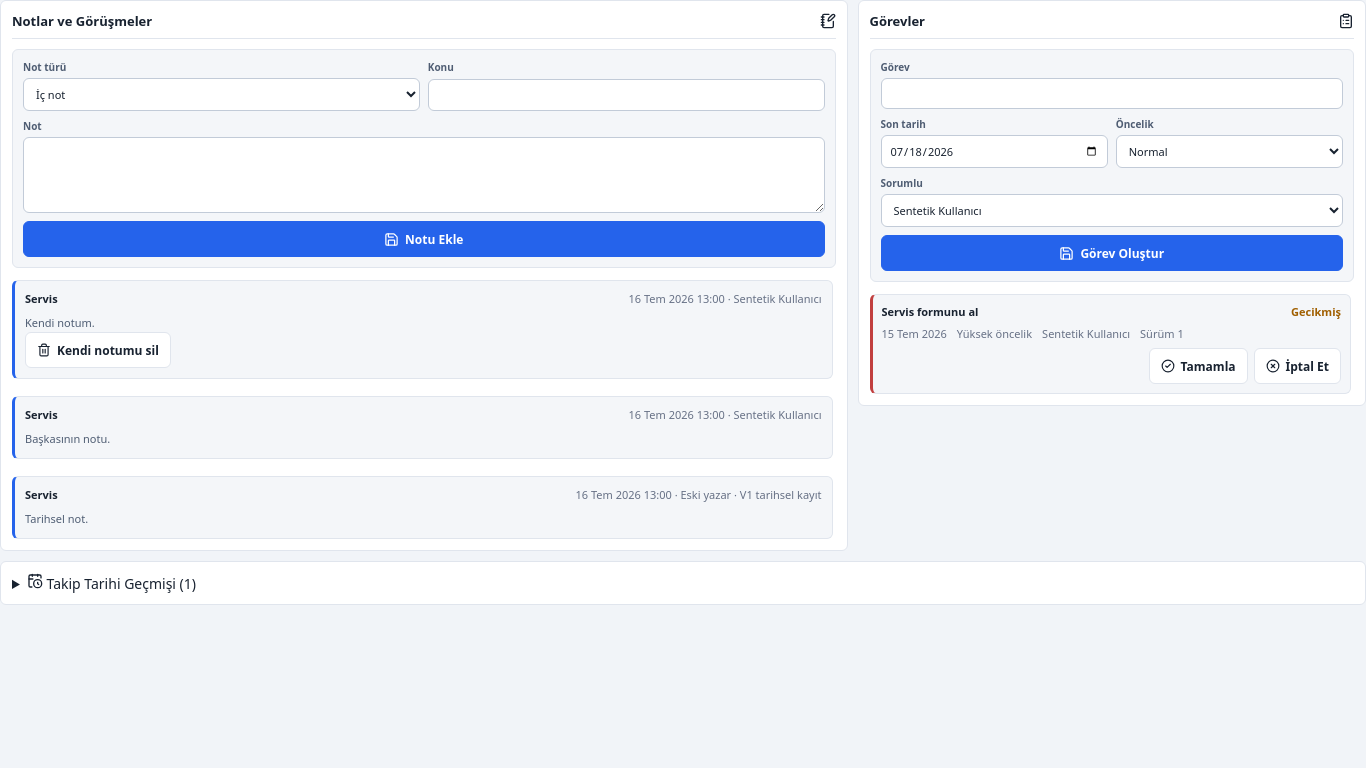
Test: Case Operations gerçek API modülü › yalnız oturum sahibinin kendi notunu onaydan sonra siler ve gerçek listeyi yeniler
The image size is (1366, 768).
Click the button "Kendi notumu sil": (98, 350) [25,332,171,368]
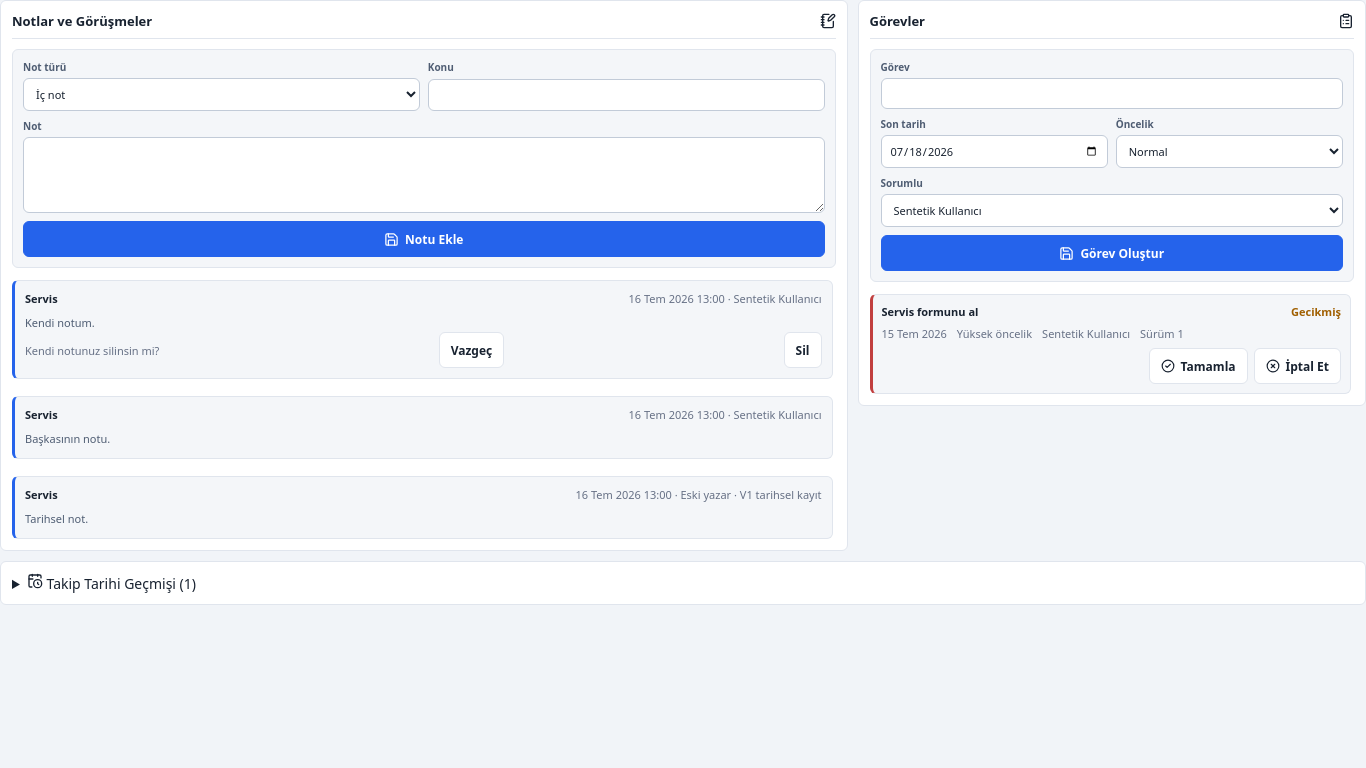
Click the button "Vazgeç": (471, 350) [439,332,504,368]
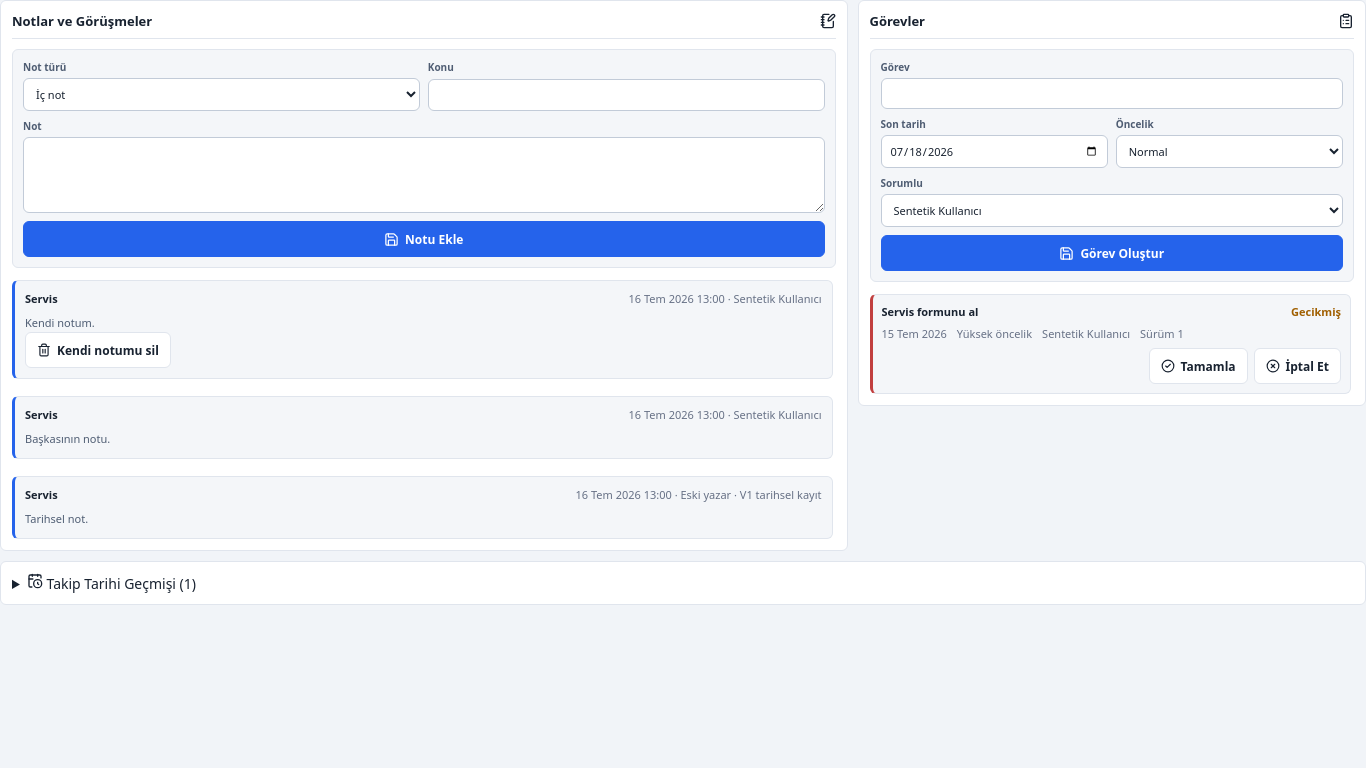
Click the button "Kendi notumu sil": (98, 350) [25,332,171,368]
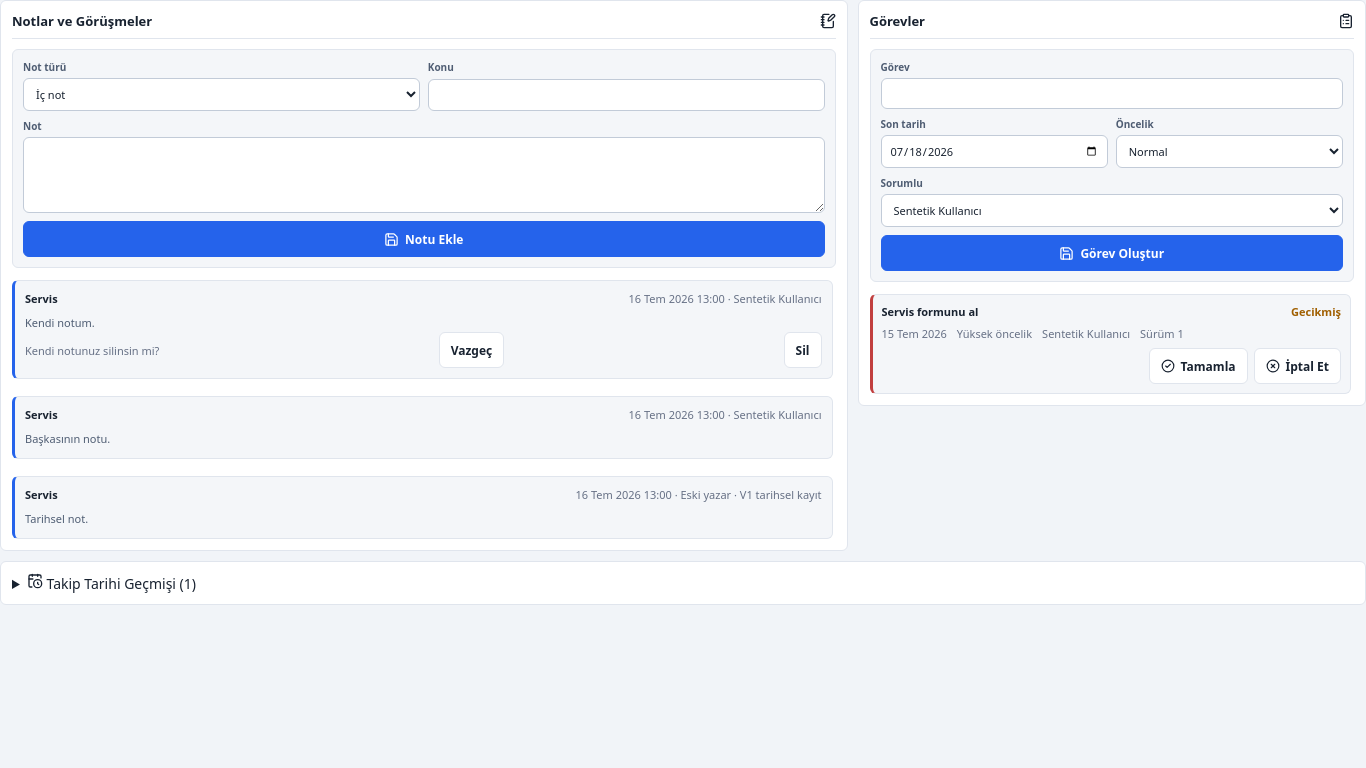
Click the button "Sil": (803, 350) [784,332,822,368]
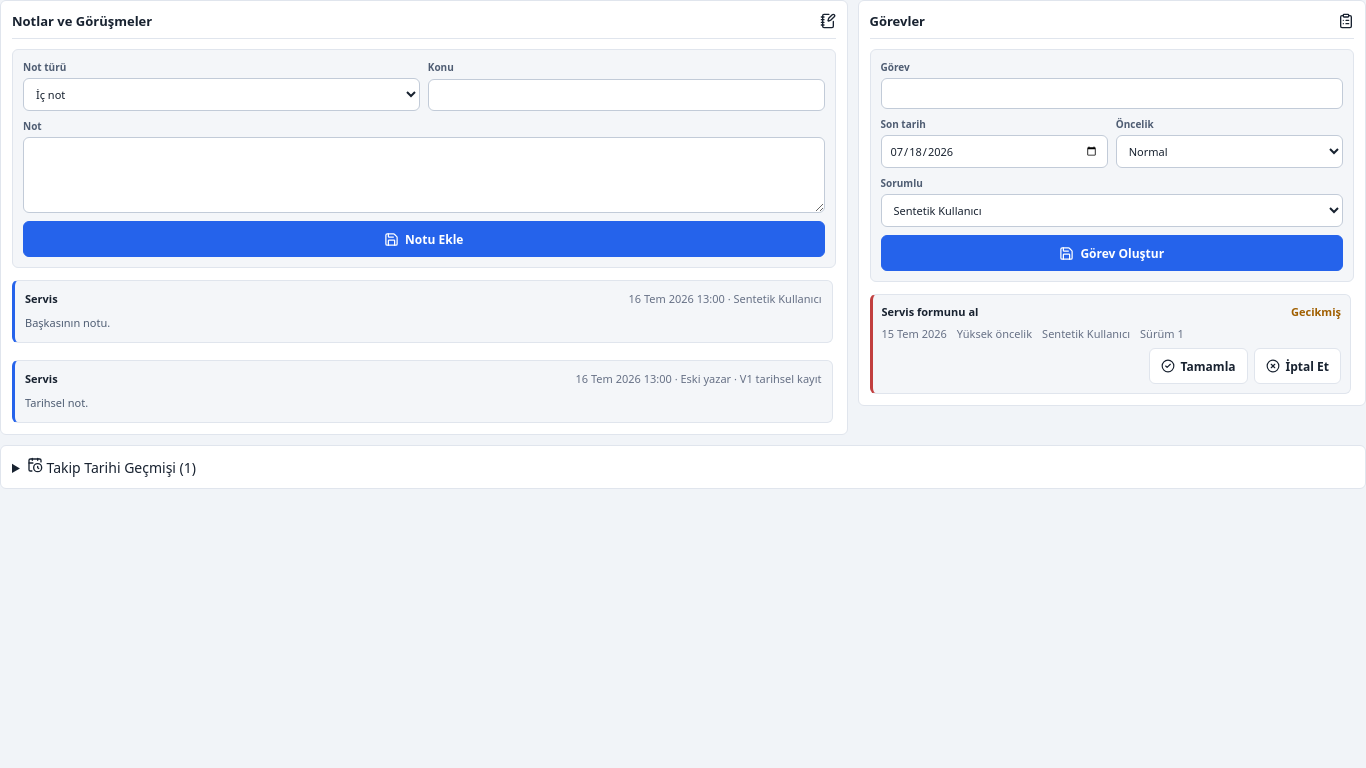
Check: the text "Başkasının notu." is shown, box [25,315,110,330]
Check: the text "Kendi notum." is gone
